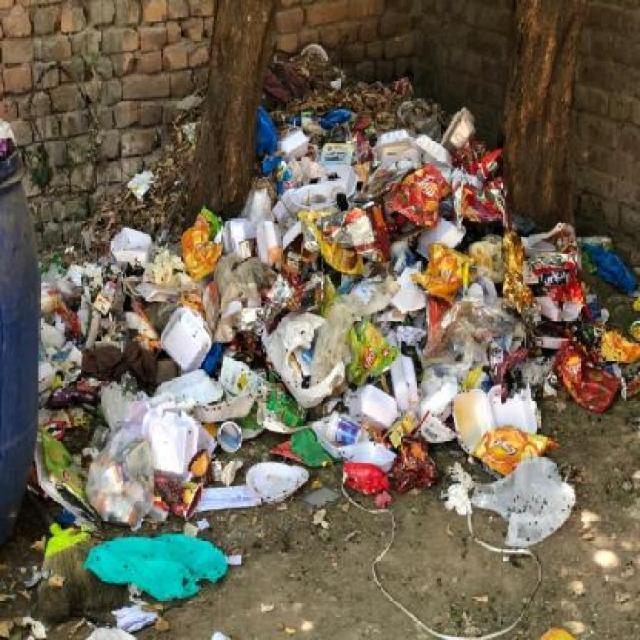garbage: (3, 34, 640, 640)
